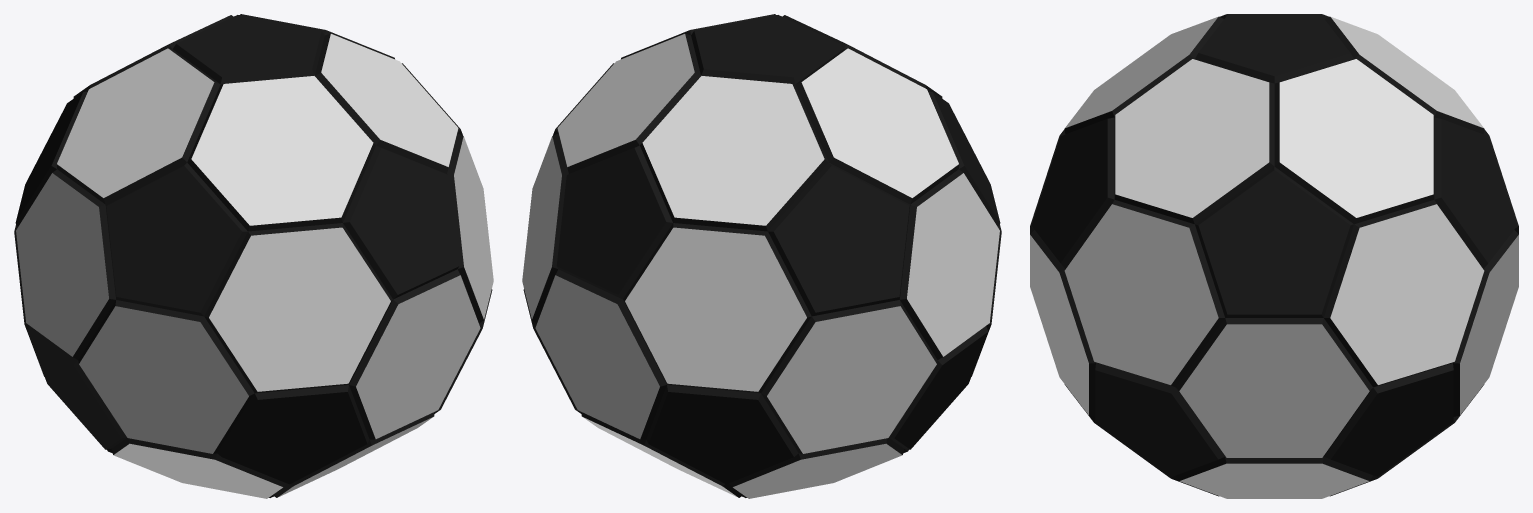
File: Int_SoccerBall01.fbx
3 views of the same model, side by side, from view 1: azimuth 30°, elevation 25°; view 2: azimuth 150°, elevation 25°; view 3: azimuth 270°, elevation 25° (orthographic). The views are drawn at different scales.
Visible parts, largest first — view 1: Int_SoccerBall01; view 2: Int_SoccerBall01; view 3: Int_SoccerBall01.
Part boxes in pixels (bbox=[...]): Int_SoccerBall01: bbox=[14, 14, 493, 498]; Int_SoccerBall01: bbox=[522, 14, 1001, 498]; Int_SoccerBall01: bbox=[1030, 14, 1518, 498].
Size of what is drawn, in the model's own units: 28.42 by 28.76 by 27.79.
